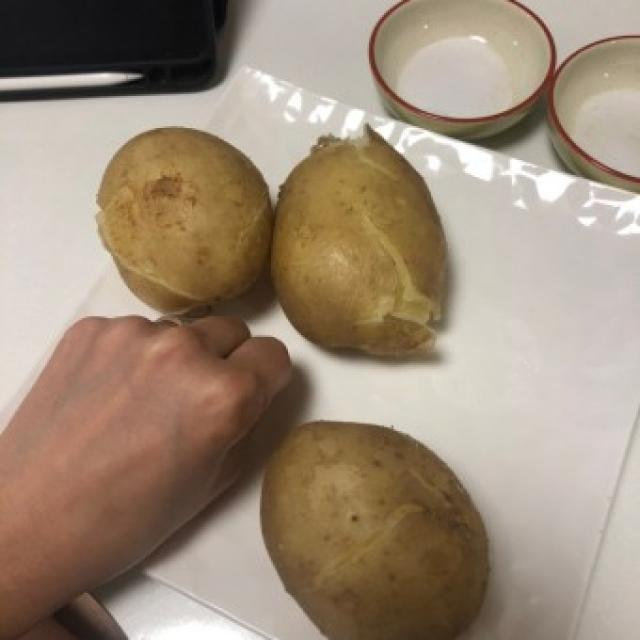potato: (257, 415, 496, 640), (259, 120, 463, 358), (82, 115, 286, 325)
